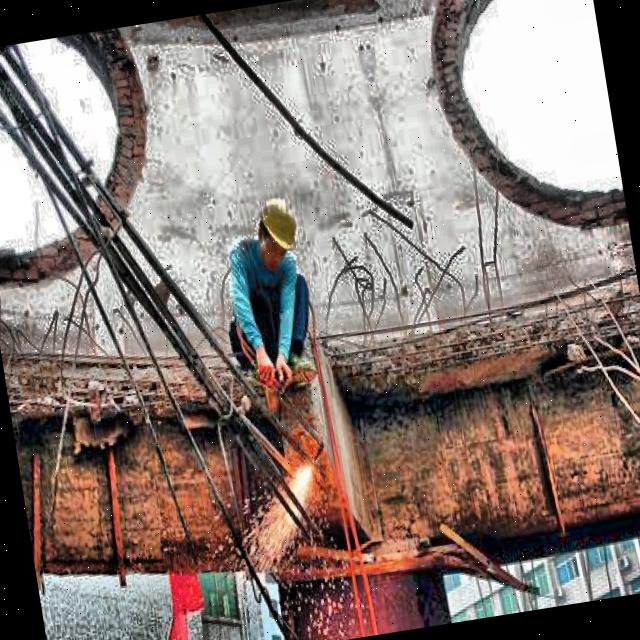helmet: (254, 192, 304, 274)
